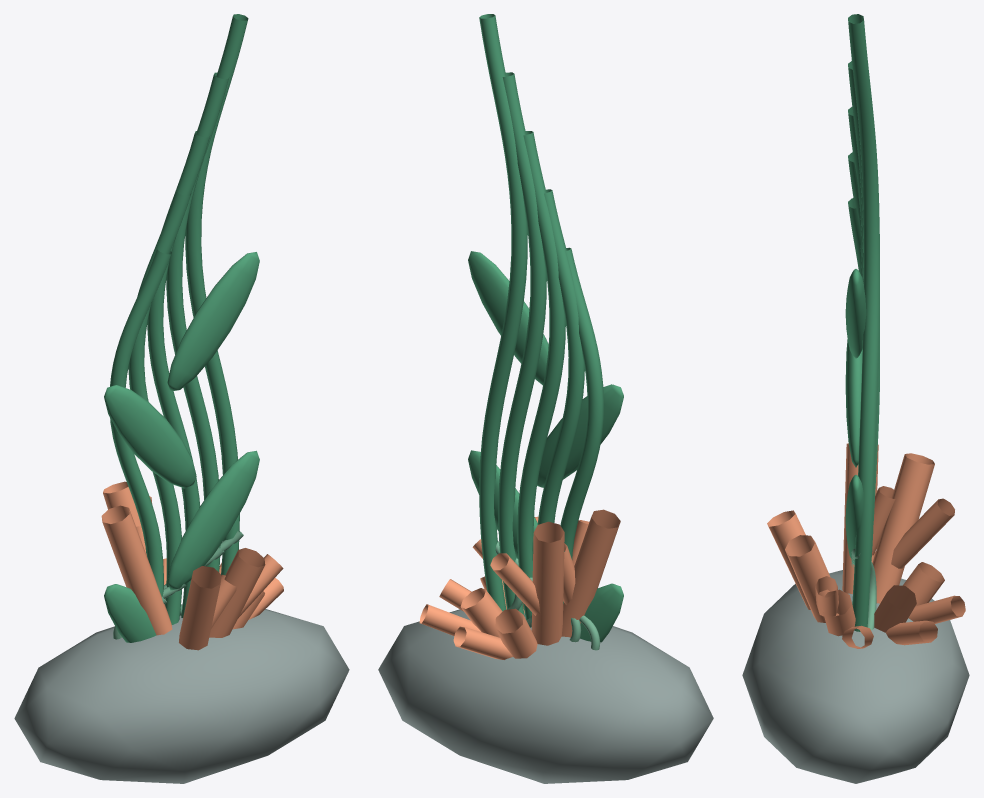
Rendered from environment-2.glb.
The picture shows the model from 3 angles, left to right: view 1: azimuth 30°, elevation 25°; view 2: azimuth 150°, elevation 25°; view 3: azimuth 270°, elevation 25°; orthographic projection. The views are drawn at different scales.
Visible parts, largest first — view 1: rock_2, kelp_2, coral_2, grass_2; view 2: kelp_2, rock_2, coral_2, grass_2; view 3: rock_2, coral_2, kelp_2, grass_2.
Part boxes in pixels (box(x1,y1,x2,y2)): rock_2: box(14, 604, 349, 783); kelp_2: box(104, 14, 259, 642); coral_2: box(101, 481, 283, 650); grass_2: box(113, 531, 243, 639); kelp_2: box(468, 14, 623, 642); rock_2: box(378, 609, 713, 783); coral_2: box(419, 509, 620, 659); grass_2: box(495, 540, 600, 650); rock_2: box(742, 570, 969, 783); coral_2: box(767, 443, 965, 648); kelp_2: box(845, 14, 879, 631); grass_2: box(851, 548, 876, 630).
Size of the model in its own units: 1.9 by 4.46 by 1.2.
